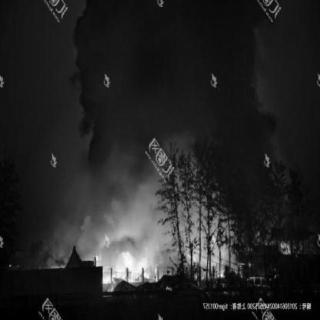Fire: (32, 188, 300, 292)
Smoke: (72, 0, 255, 182)
